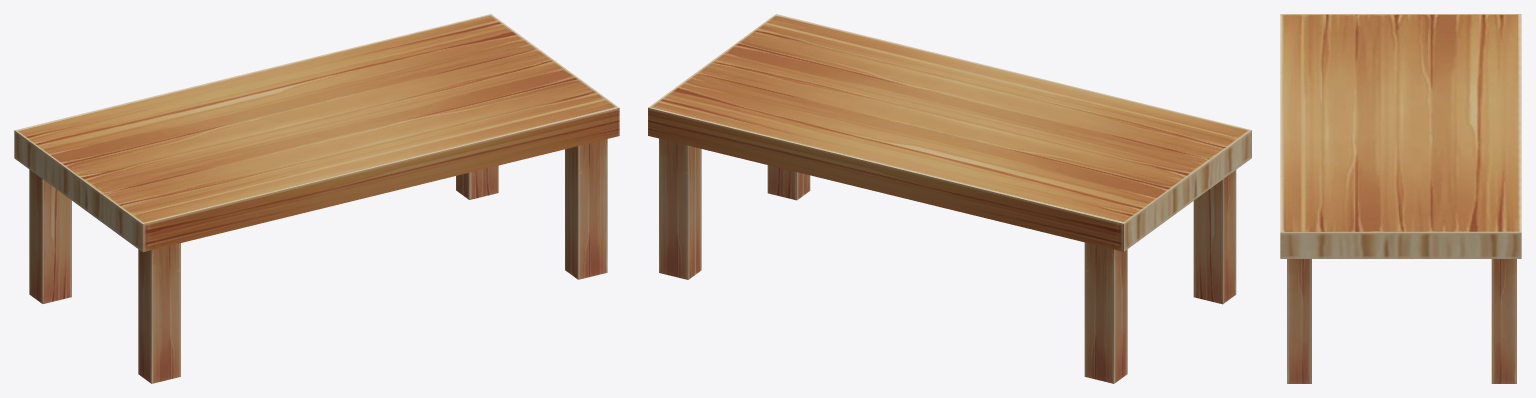
The model's file is SE_Table_02a.fbx.
3 renders of one model, left to right at view 1: azimuth 30°, elevation 25°; view 2: azimuth 150°, elevation 25°; view 3: azimuth 270°, elevation 25°, orthographic. The views are drawn at different scales.
Visible parts, largest first — view 1: SE_Table_02a; view 2: SE_Table_02a; view 3: SE_Table_02a.
Boxes of the visible parts, x1,y1,x2,y2 form: SE_Table_02a: (14,14,619,383); SE_Table_02a: (648,14,1251,383); SE_Table_02a: (1280,14,1521,383).
Size of the model in its own units: 4.3 by 1.42 by 2.
